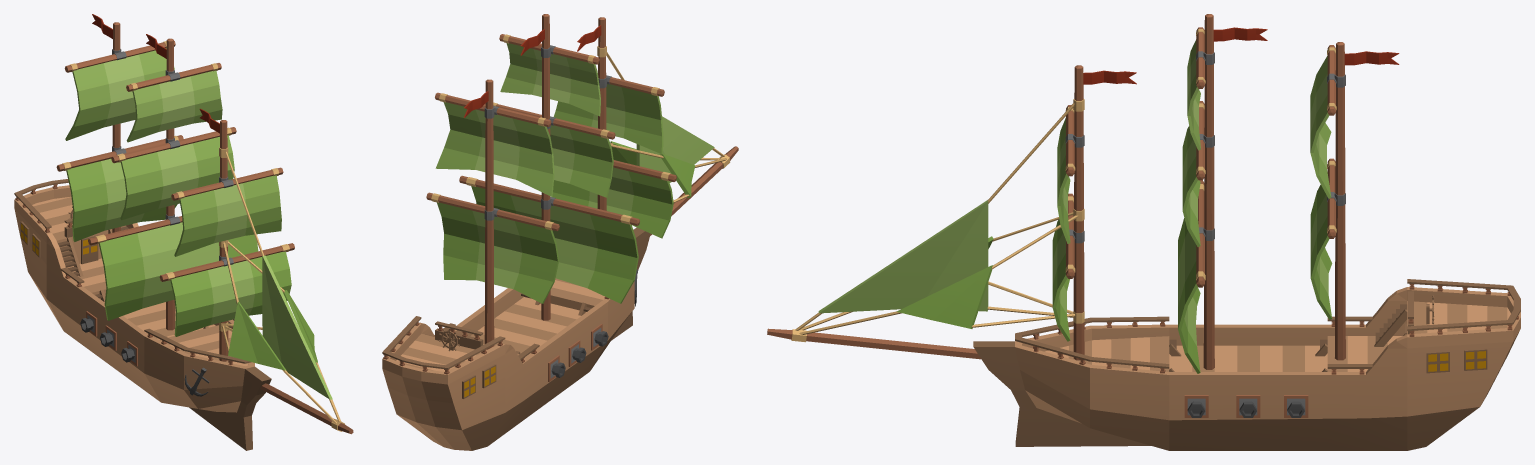
Rendered from ship-large-3.glb.
3 views of the same model, side by side, from view 1: azimuth 30°, elevation 25°; view 2: azimuth 150°, elevation 25°; view 3: azimuth 270°, elevation 25° (orthographic). The views are drawn at different scales.
Visible parts, largest first — view 1: ship large 3; view 2: ship large 3; view 3: ship large 3.
Part boxes in pixels (left/top/right/bottom): ship large 3: left=14, top=14, right=353, bottom=450; ship large 3: left=382, top=14, right=738, bottom=450; ship large 3: left=767, top=14, right=1520, bottom=450.
Size of the model in its own units: 16.35 by 32.4 by 51.37.
1 material, 1 textured.
